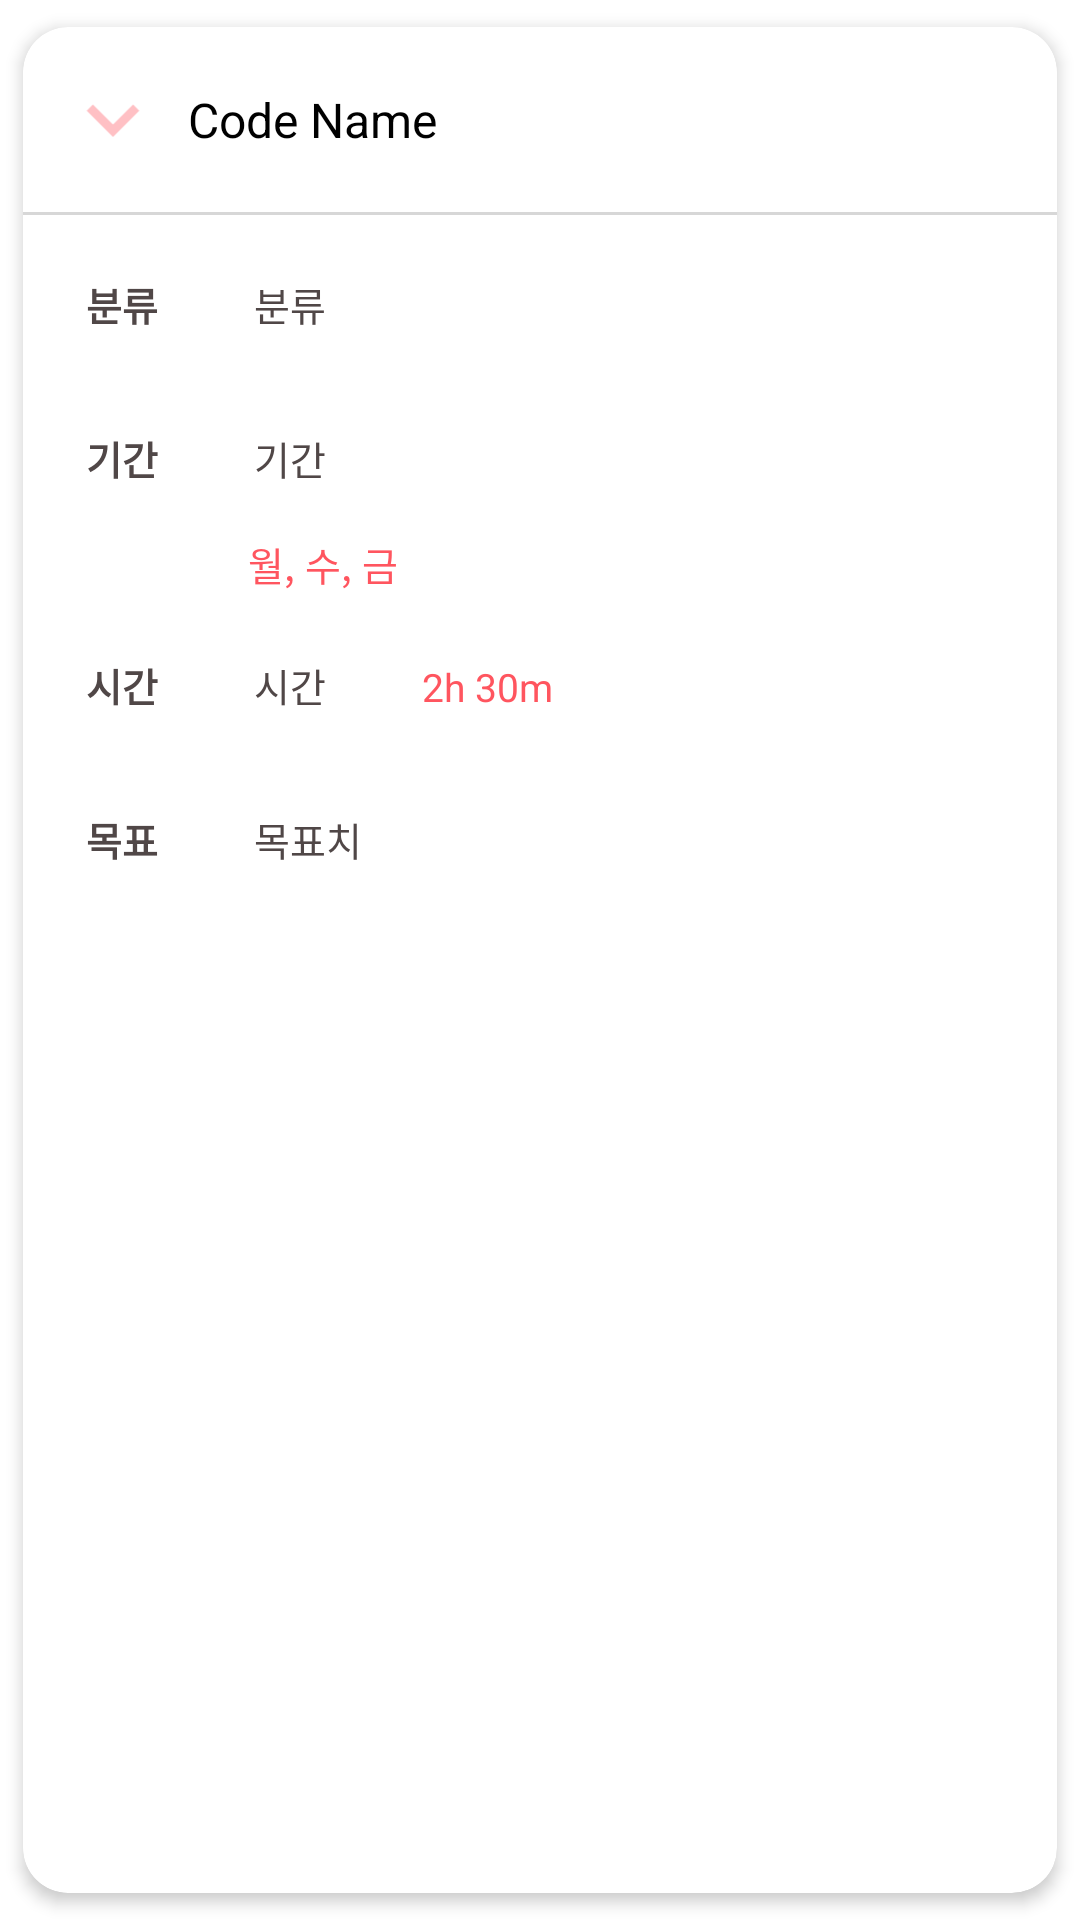

Icon click points for this 1080 x 1920 phone screenshot, format (x,y):
keyboard arrow down: (113,121)
